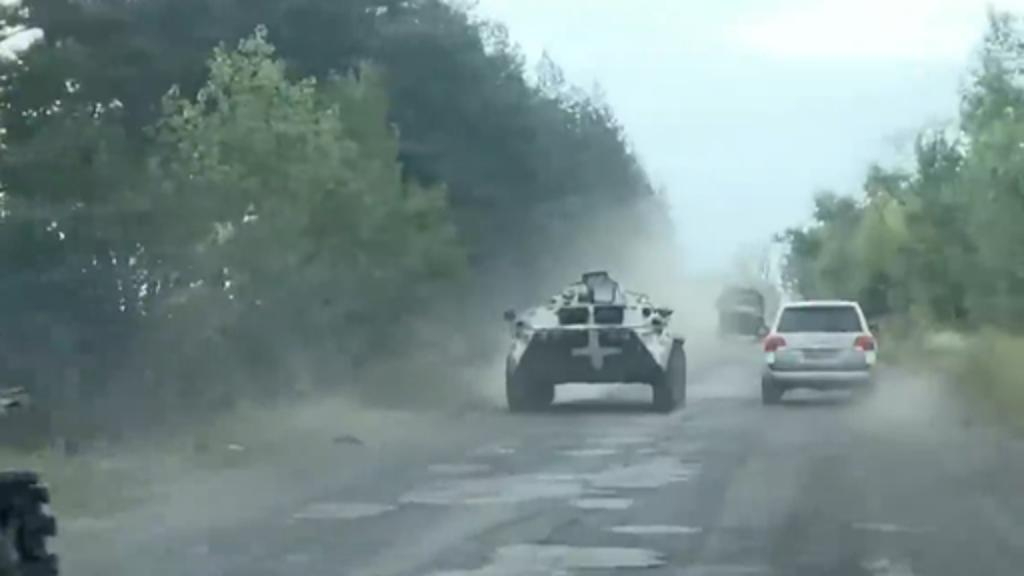APC-IFV: (498, 262, 686, 408)
CAR: (758, 290, 886, 400)
TRUCK: (712, 280, 766, 336)
